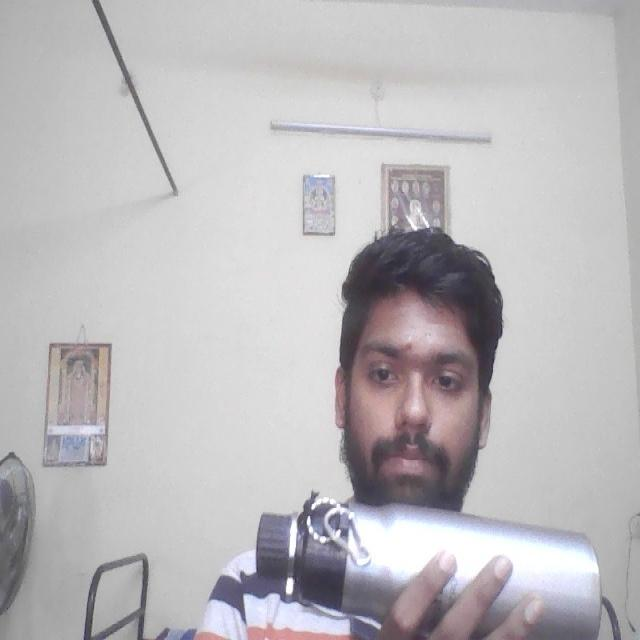Drinking: (246, 489, 609, 640)
